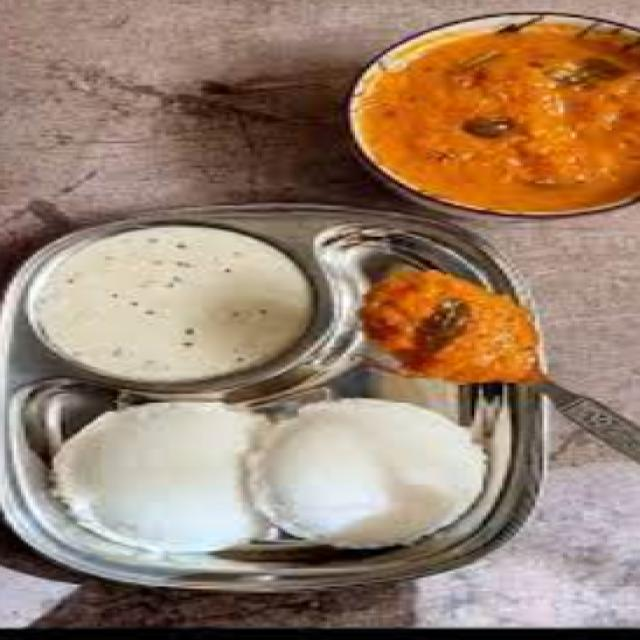coconut chutney: (30, 223, 305, 382)
